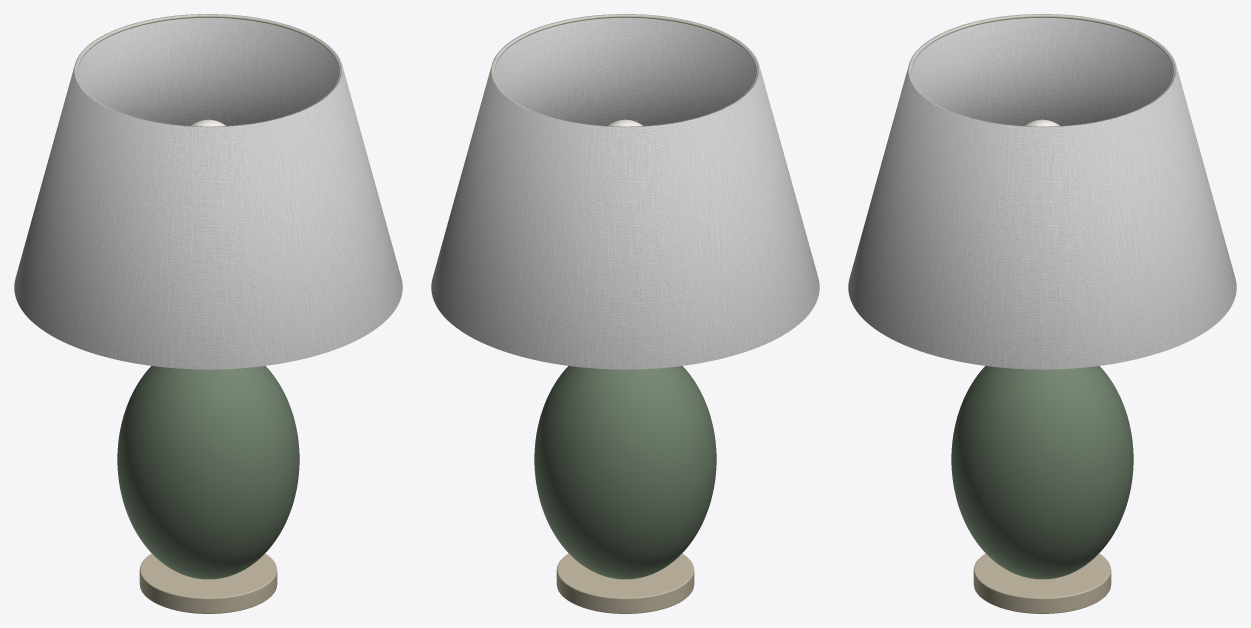
Rendered from abajur.glb.
3 renders of one model, left to right at view 1: azimuth 30°, elevation 25°; view 2: azimuth 150°, elevation 25°; view 3: azimuth 270°, elevation 25°, orthographic.
Visible parts, largest first — view 1: Cupula de linho com espessura, Base oval de ceramica, Pe circular de latao, Viés da cupula.001; view 2: Cupula de linho com espessura, Base oval de ceramica, Pe circular de latao, Viés da cupula.001; view 3: Cupula de linho com espessura, Base oval de ceramica, Pe circular de latao, Viés da cupula.001.
Part boxes in pixels (x1,y1,x2,y2): Cupula de linho com espessura: (14,14,402,369); Base oval de ceramica: (117,366,299,579); Pe circular de latao: (139,553,277,613); Viés da cupula.001: (76,15,340,126); Cupula de linho com espessura: (431,14,819,369); Base oval de ceramica: (534,366,716,579); Pe circular de latao: (556,553,694,613); Viés da cupula.001: (493,15,757,126); Cupula de linho com espessura: (848,14,1236,369); Base oval de ceramica: (951,366,1133,579); Pe circular de latao: (973,553,1111,613); Viés da cupula.001: (910,15,1174,126).
Bounding box in the file's own units: 0.26 × 0.38 × 0.26.
Materials: 5 (1 with a texture image).
